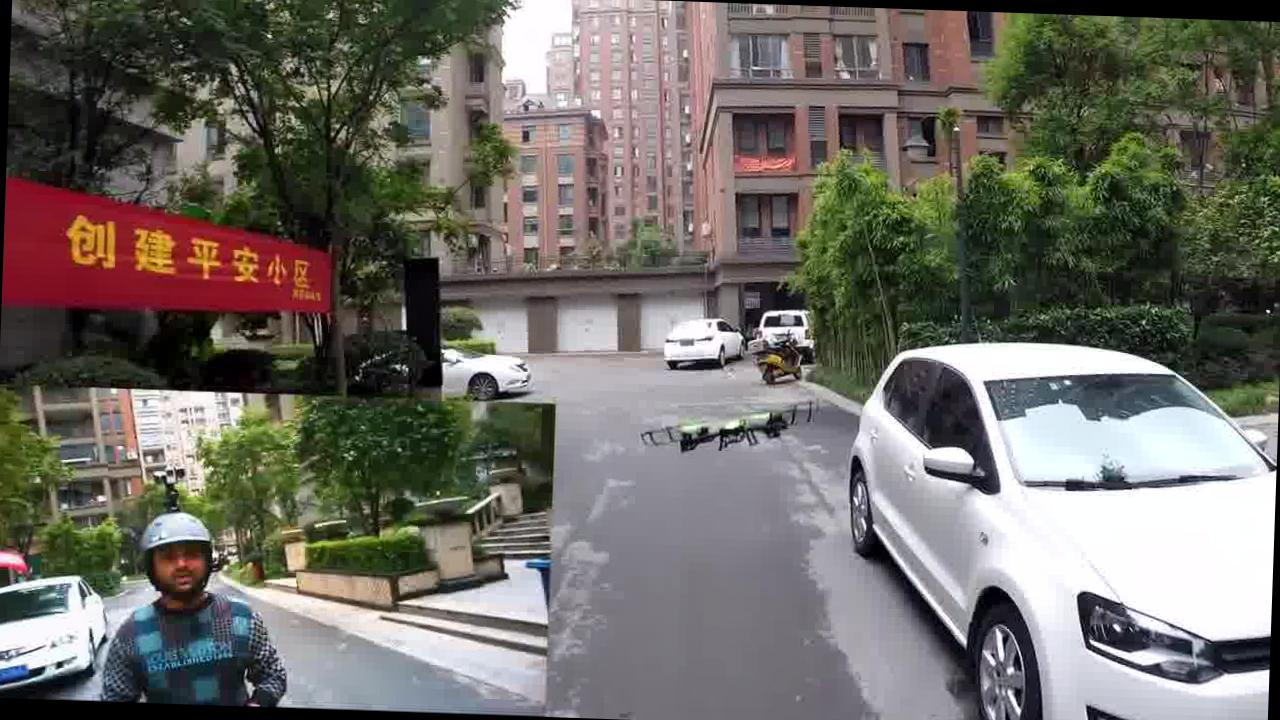drone: (614, 382, 825, 483)
